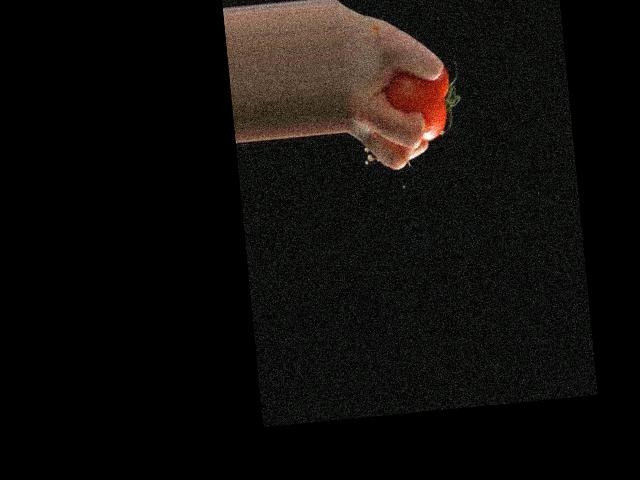tomato: (383, 65, 454, 143)
